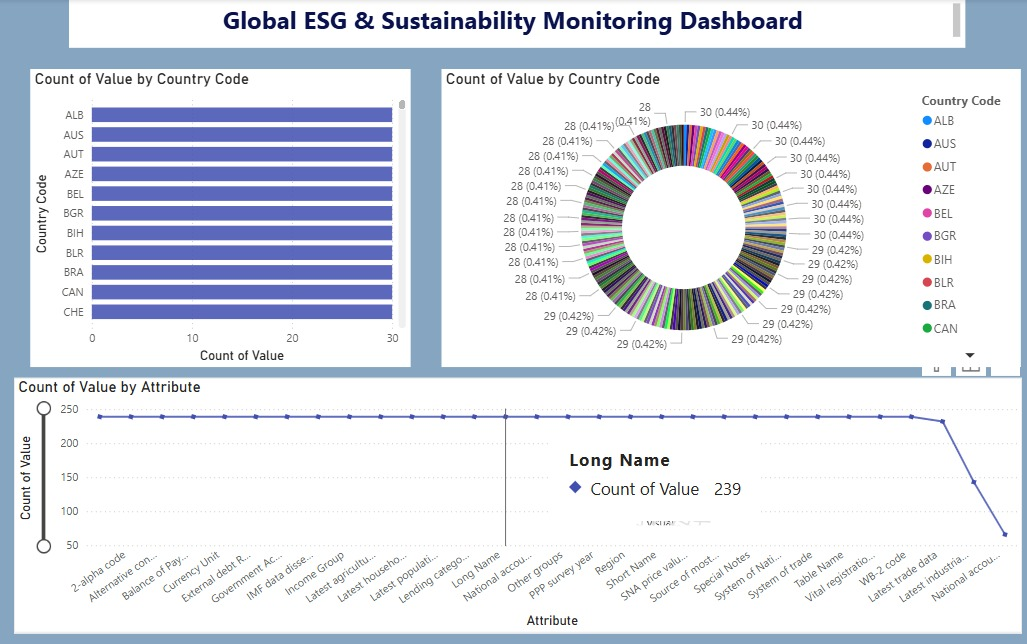

This screenshot's page, from the dashboard's own definition file:
{"tool":"powerbi","page":{"name":"Page 1","canvas":[1280,720],"ordinal":0},"visuals":[{"type":"clusteredBarChart","fields":{"Category":["ESGCountry.Country Code"],"Y":["CountNonNull(ESGCountry.Value)"]},"box":[33.8,76.2,417.5,327.5],"z":0},{"type":"lineChart","fields":{"Category":["ESGCountry.Attribute"],"Y":["CountNonNull(ESGCountry.Value)"]},"box":[16.2,416.2,1106.2,280],"z":1000},{"type":"donutChart","fields":{"Category":["ESGCountry.Country Code"],"Y":["CountNonNull(ESGCountry.Value)"]},"box":[486.2,76.2,636.2,327.5],"z":2000},{"type":"map","box":[678.8,510,122.5,67.5],"z":3000},{"type":"textbox","box":[1130,53,150,328],"z":4000},{"type":"textbox","box":[1130,404,150,280],"z":5000},{"type":"textbox","box":[77.5,0,983.8,53.8],"z":6000}]}

Visuals, with their boxes on the page's 1280x720 design canvas (x1, y1, x2, y2). These are canvas units, not pixel positions in the 1027x644 screenshot, which may show the page scaled, cropped or inside an application window:
clusteredBarChart - ESGCountry.Country Code x CountNonNull(ESGCountry.Value): 34, 76, 451, 404
lineChart - ESGCountry.Attribute x CountNonNull(ESGCountry.Value): 16, 416, 1122, 696
donutChart - ESGCountry.Country Code x CountNonNull(ESGCountry.Value): 486, 76, 1122, 404
map: 679, 510, 801, 578
textbox: 1130, 53, 1280, 381
textbox: 1130, 404, 1280, 684
textbox: 78, 0, 1061, 54
